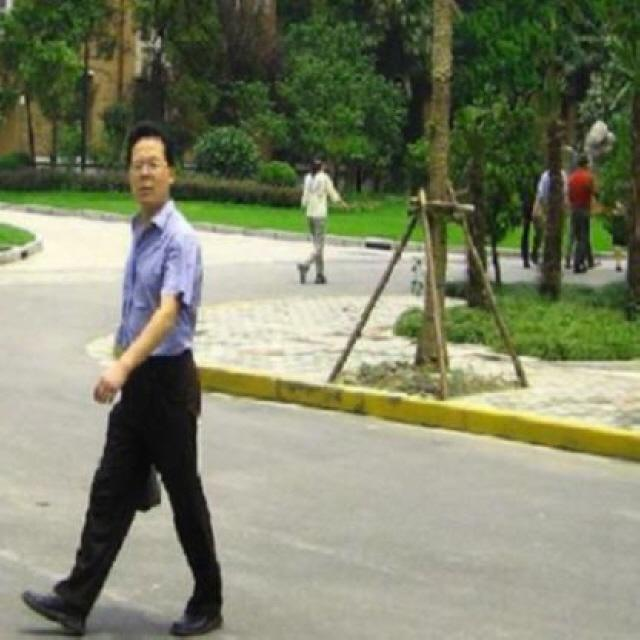Stand: (21, 124, 223, 638), (298, 158, 343, 284)
